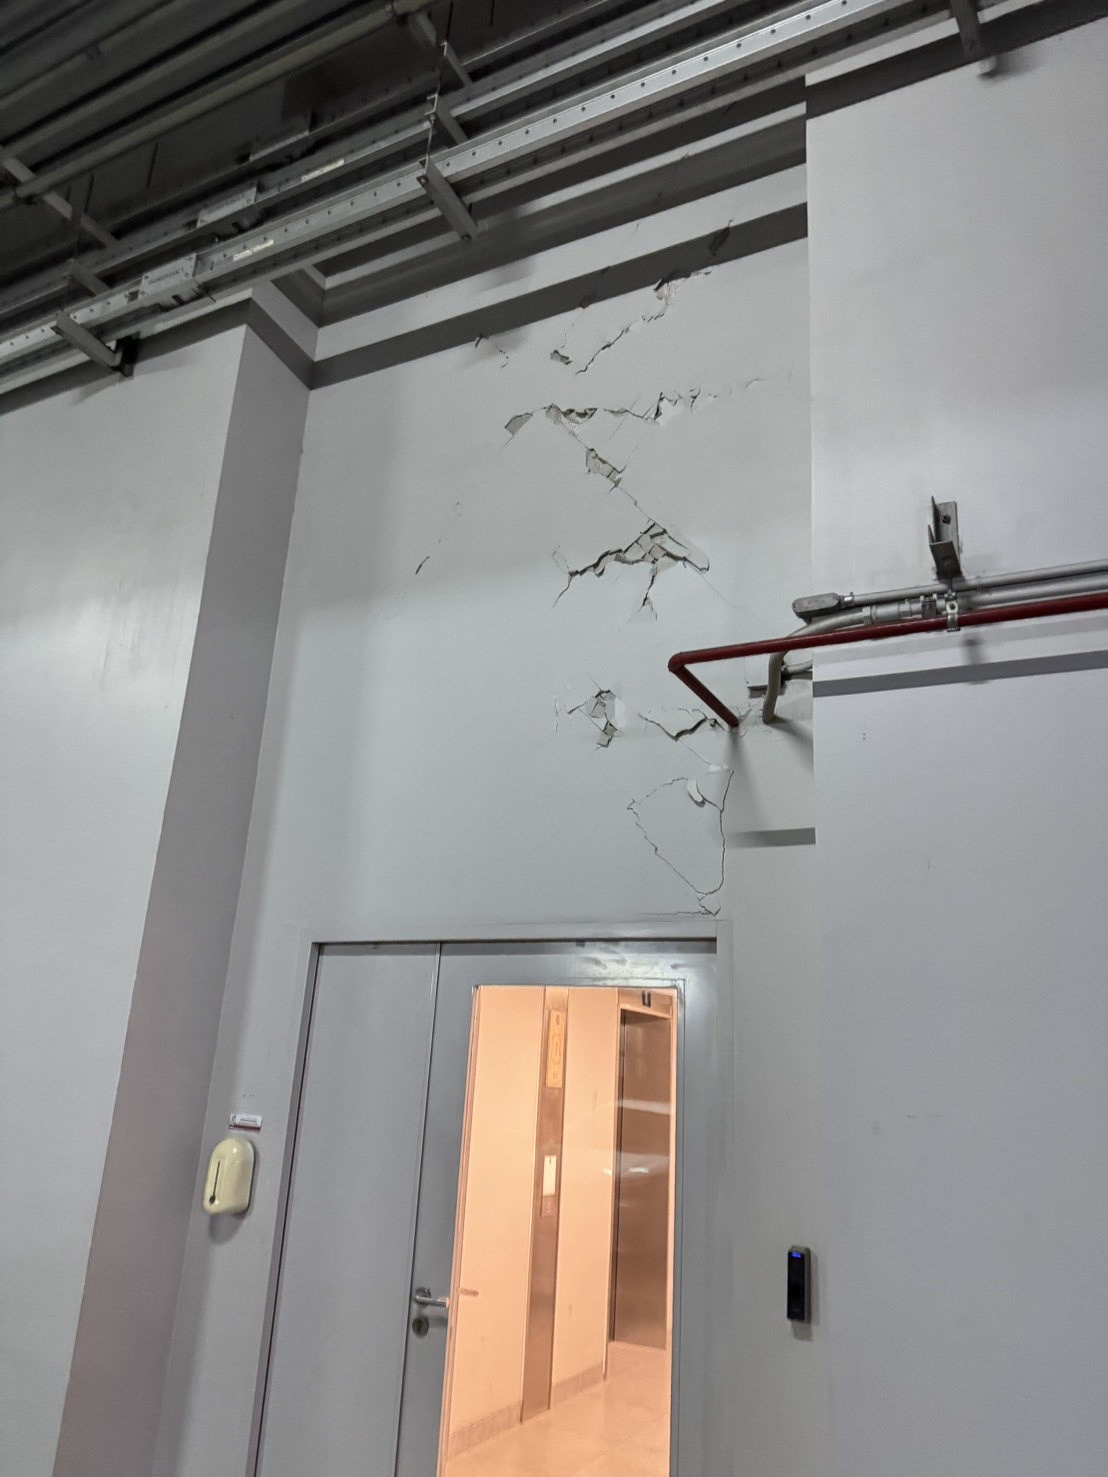Low: (459, 306, 772, 901)
